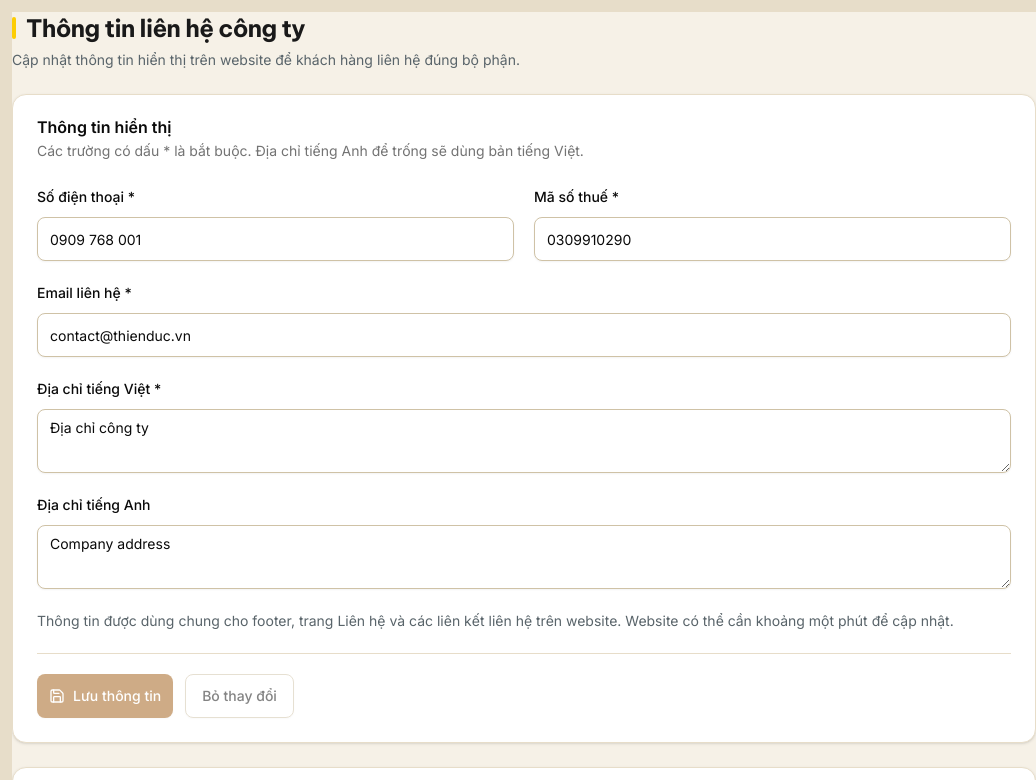
Test: Quản lý thông tin liên hệ công ty › báo lỗi tại trường và focus email sai, không gửi API
Replace the text in the field labelled "Email liên hệ *" with "sai-email" at (524, 335), box [37,313,1011,357]
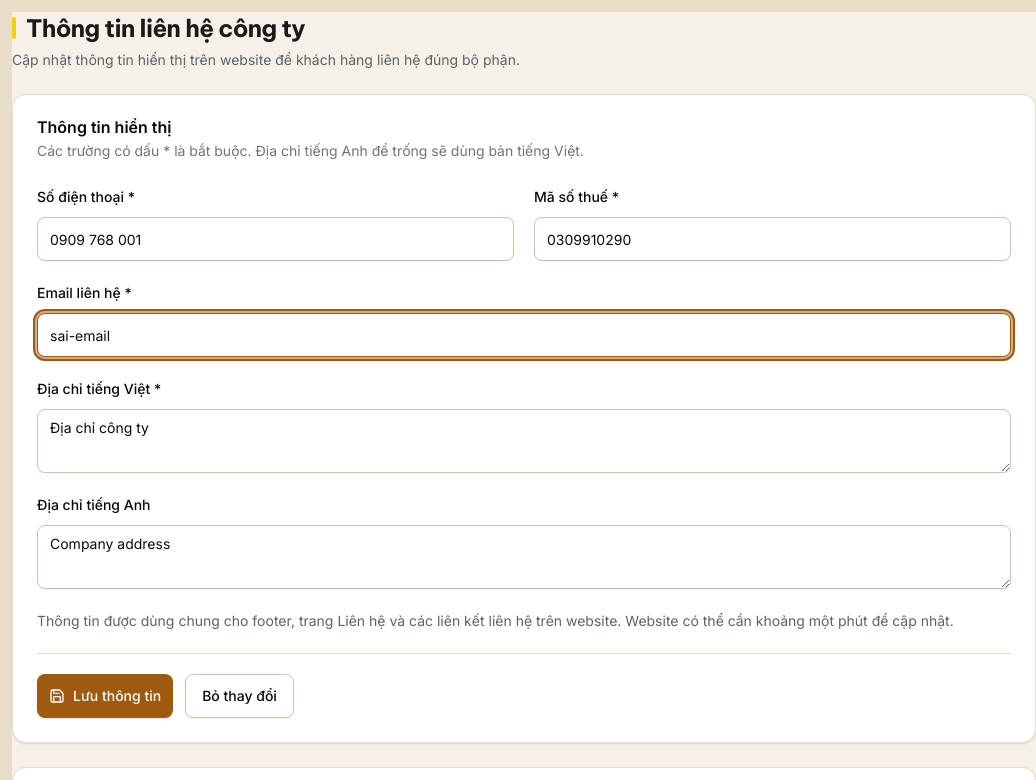
Click the button "Lưu thông tin".
click(105, 696)  # box [37,674,173,718]
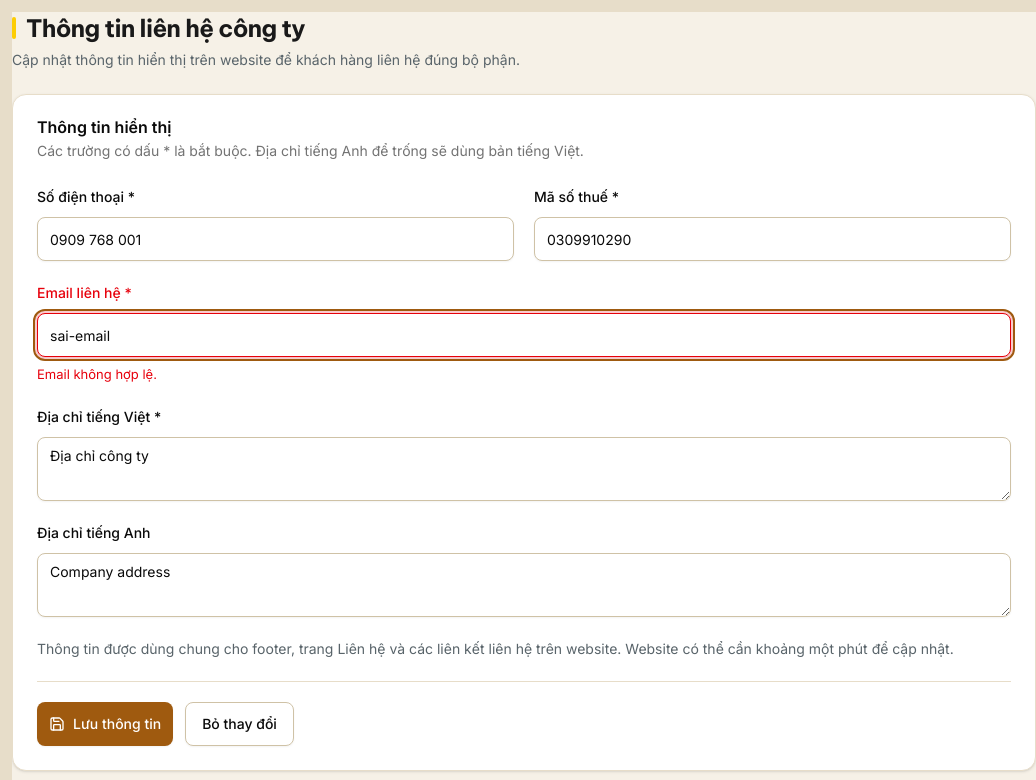
Expected: the text "Email không hợp lệ." is shown, [37,366,157,382]
